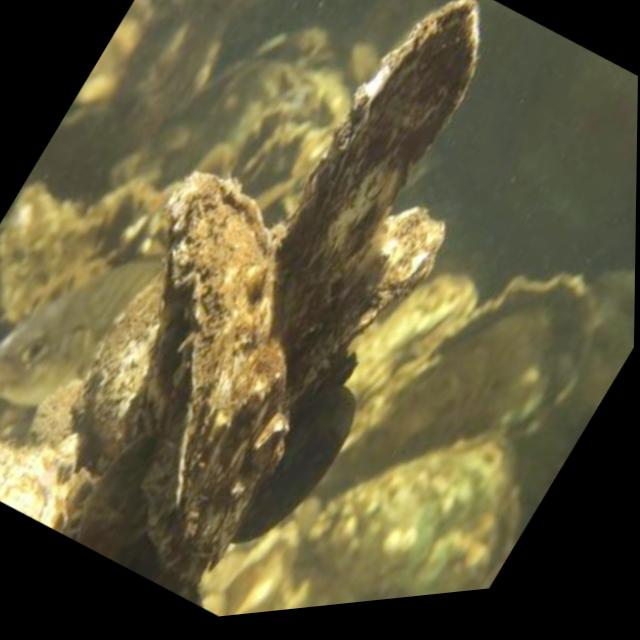Oyster-Closed: (313, 453, 518, 601), (57, 0, 152, 128)
Oyster-Indeterminate: (277, 0, 483, 368), (138, 169, 288, 570), (338, 276, 599, 487), (507, 276, 635, 529), (287, 206, 446, 400), (97, 0, 243, 156), (344, 274, 473, 435), (82, 267, 166, 465), (0, 185, 81, 323)
